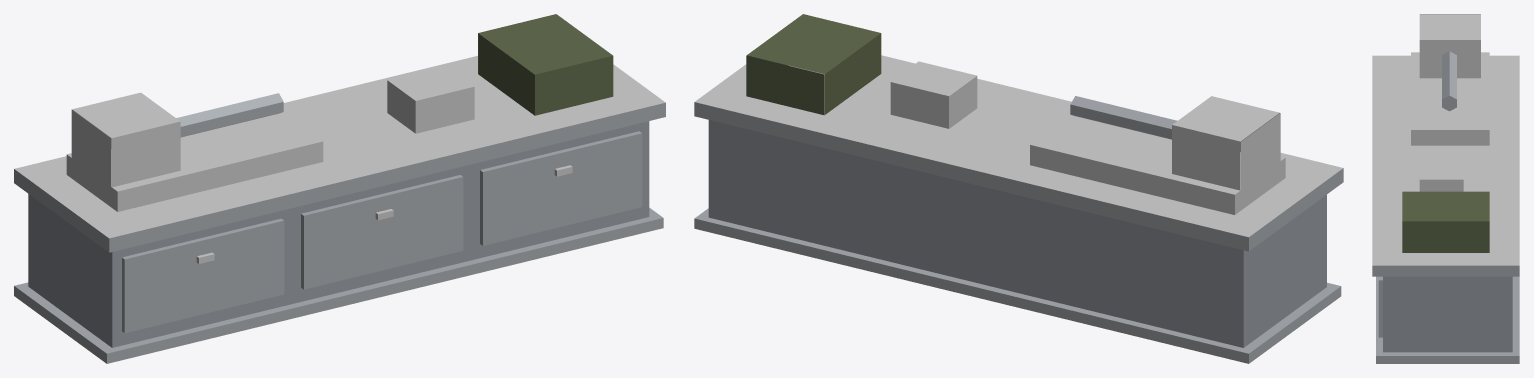
Rendered from bench_machining.obj.
3 renders of one model, left to right at view 1: azimuth 30°, elevation 25°; view 2: azimuth 150°, elevation 25°; view 3: azimuth 270°, elevation 25°, orthographic. The views are drawn at different scales.
Parts seen in each view (by area): view 1: bench_machining; view 2: bench_machining; view 3: bench_machining.
Part boxes in pixels (x1,y1,x2,y2): bench_machining: (14,14,665,363); bench_machining: (694,14,1343,363); bench_machining: (1372,14,1519,363).
Bounding box in the file's own units: 2.84 × 0.96 × 0.84.
